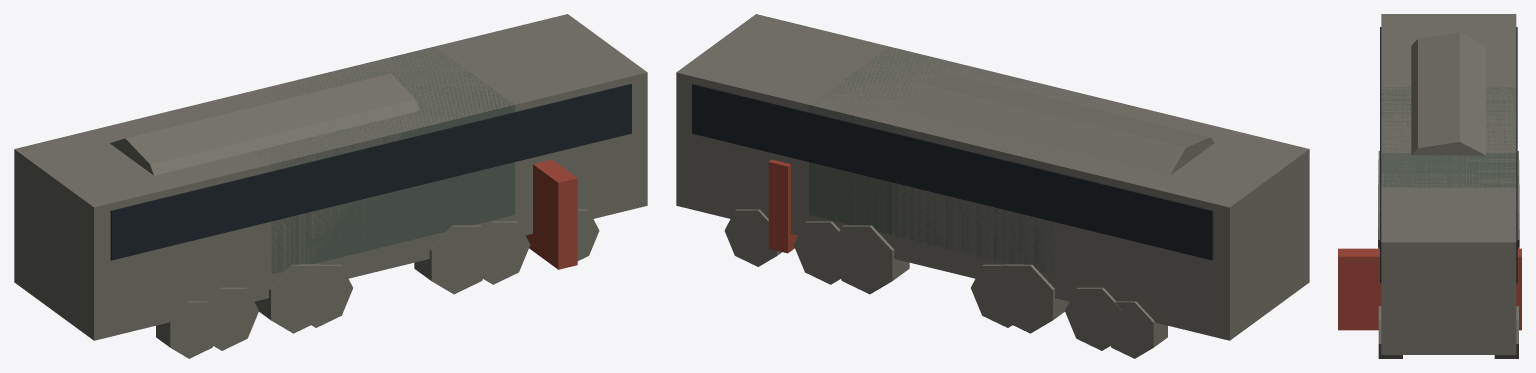
The model's file is vehicles.glb.
3 renders of one model, left to right at view 1: azimuth 30°, elevation 25°; view 2: azimuth 150°, elevation 25°; view 3: azimuth 270°, elevation 25°, orthographic. The views are drawn at different scales.
Parts seen in each view (by area): view 1: coach, plough, lorry, tanker; view 2: coach, plough, lorry, tanker; view 3: coach, plough, tanker, lorry.
Boxes of the visible parts, x1,y1,x2,y2 form: coach: (14,14,647,358); plough: (255,47,577,333); lorry: (174,113,530,350); tanker: (110,73,419,175); coach: (676,14,1309,358); plough: (768,47,1095,333); lorry: (793,67,1146,350); tanker: (905,72,1214,175); coach: (1378,14,1518,358); plough: (1338,87,1521,330); tanker: (1411,32,1485,155); lorry: (1378,48,1519,248).
Size of the model in its own units: 10 by 3.27 by 3.4.
